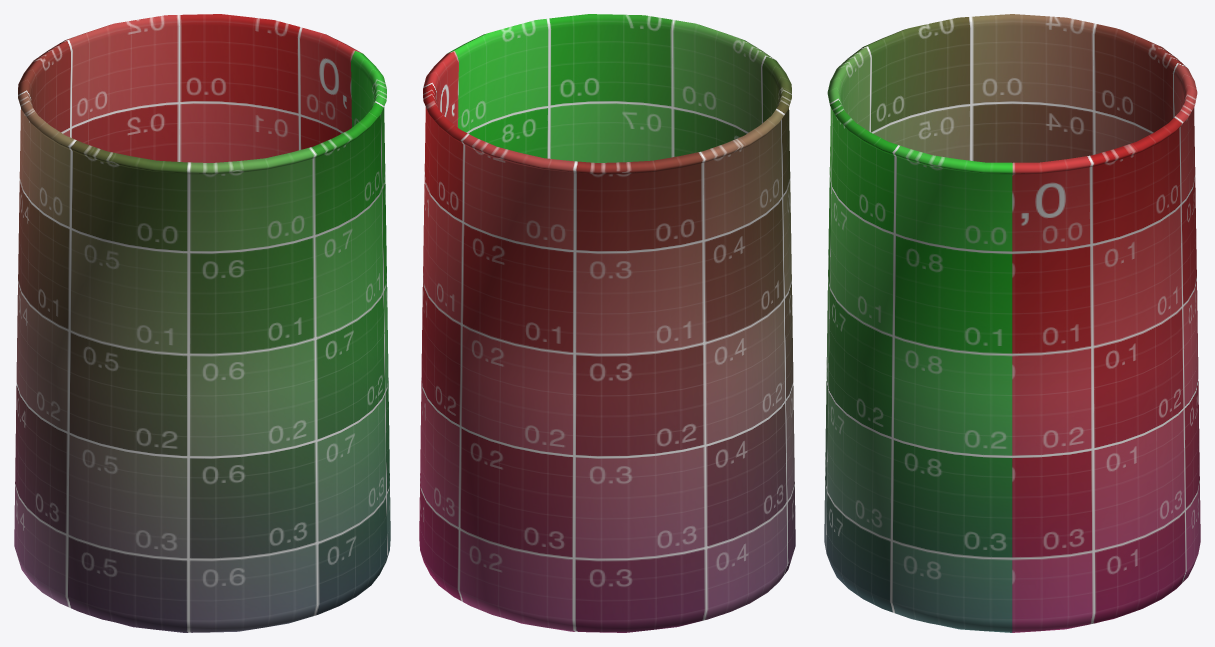
The model's file is Vase hard.fbx.
3 renders of one model, left to right at view 1: azimuth 30°, elevation 25°; view 2: azimuth 150°, elevation 25°; view 3: azimuth 270°, elevation 25°, orthographic.
Parts seen in each view (by area): view 1: Connect; view 2: Connect; view 3: Connect.
Boxes of the visible parts, x1,y1,x2,y2 form: Connect: (14, 14, 390, 632); Connect: (419, 14, 795, 632); Connect: (824, 14, 1200, 632).
Size of the model in its own units: 110 by 153 by 110.
1 material, 1 textured.
